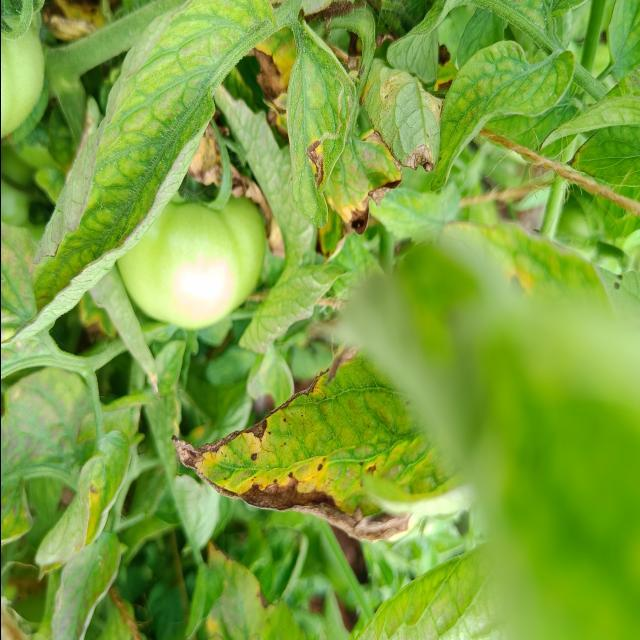Tomato mosaic virus leaf: (162, 366, 356, 534), (356, 72, 444, 174)
